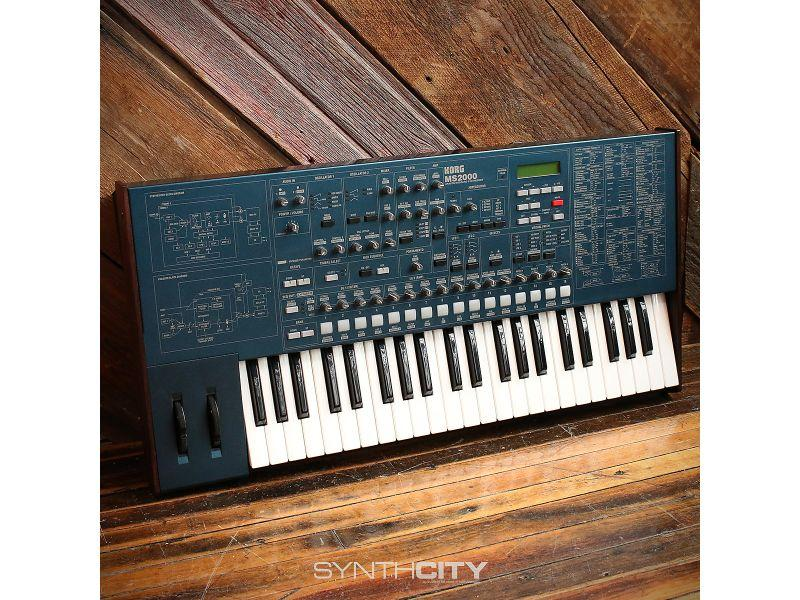synthesizer: (120, 136, 683, 493)
